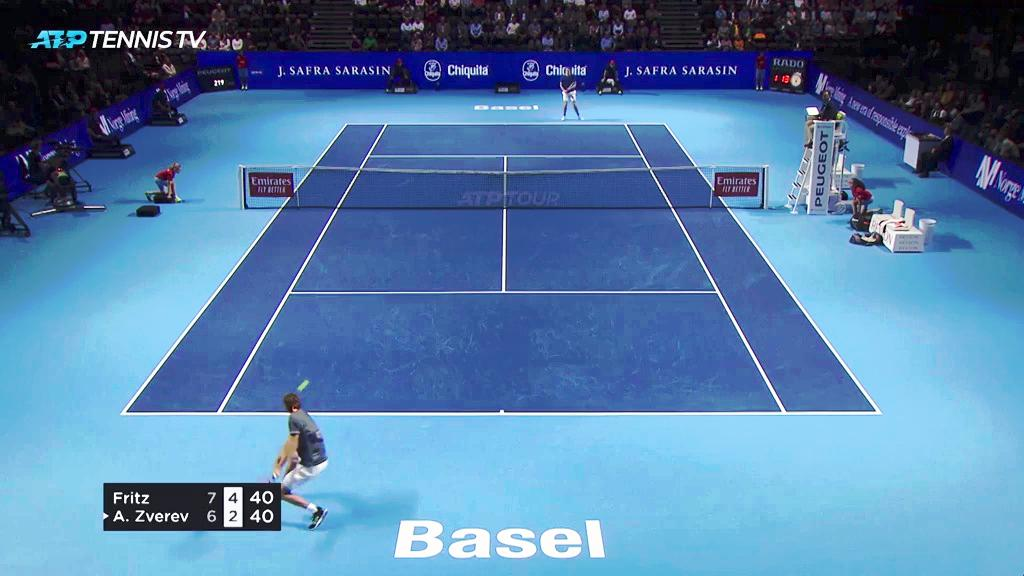tennis-court: (118, 123, 884, 415)
